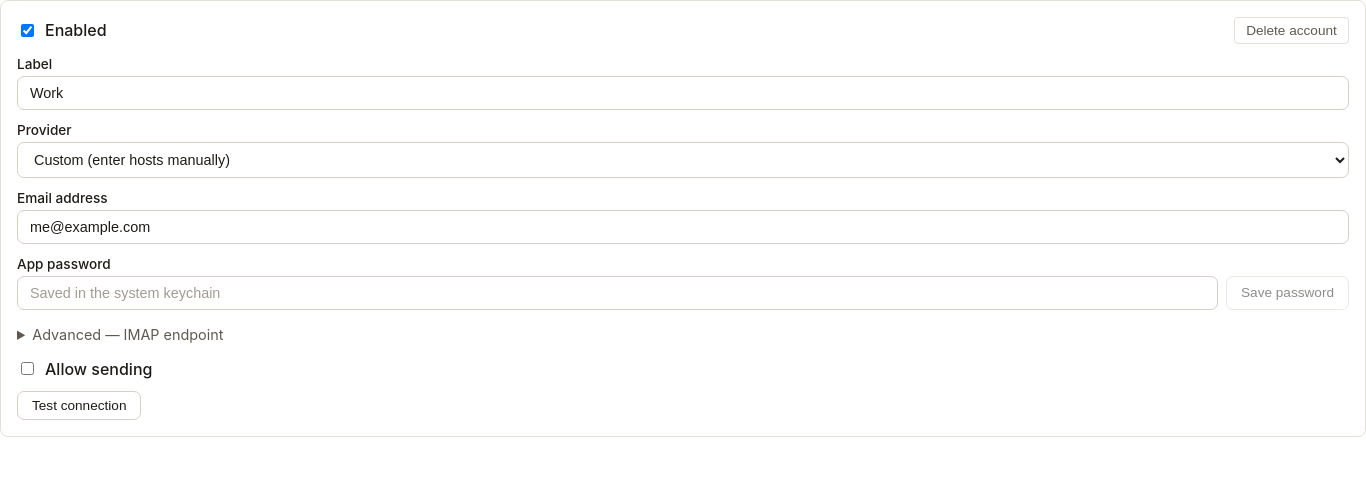
Test: EmailAccountForm password › says a typed password is not saved until Save is pressed
The width and height of the screenshot is (1366, 477).
Expected: the text "Not saved yet" is not shown
Type "new-pw" into the password field labelled "App password" at [618, 293], box [17,276,1218,310]
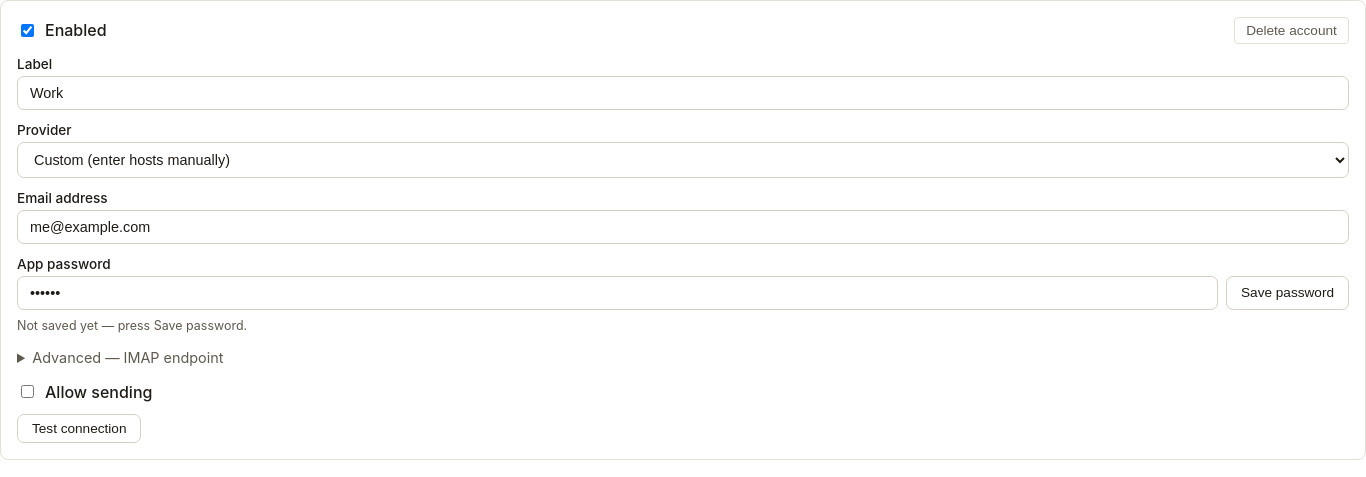
Expected: the text "Not saved yet — press Save password." is shown, [17,318,247,333]
Click the button "Save password" at [1288, 293], box [1226,276,1349,310]
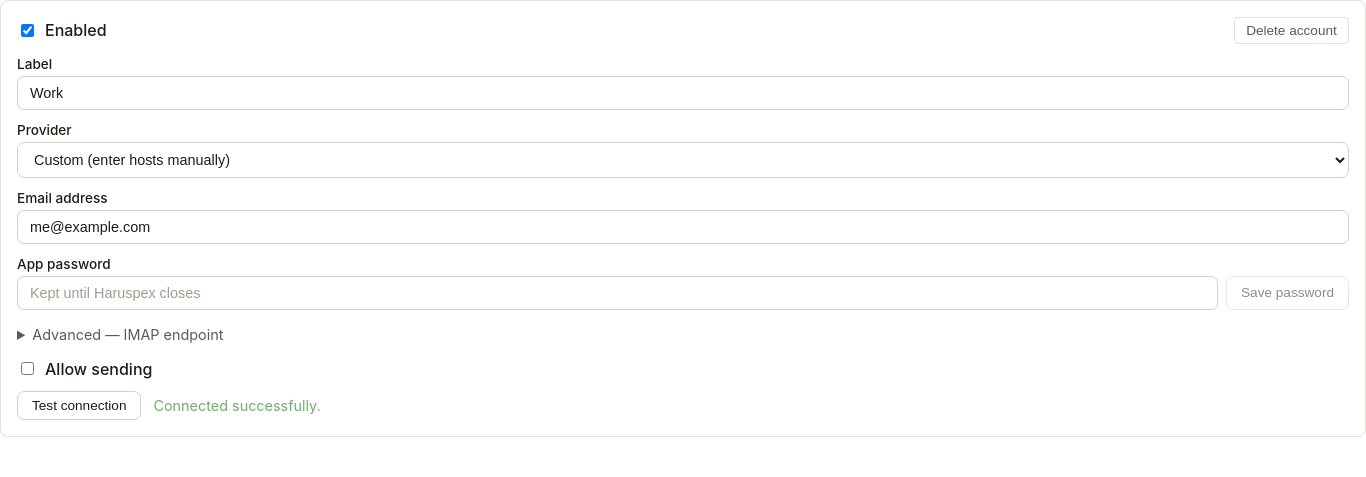
Expected: the text "Not saved yet" is gone
